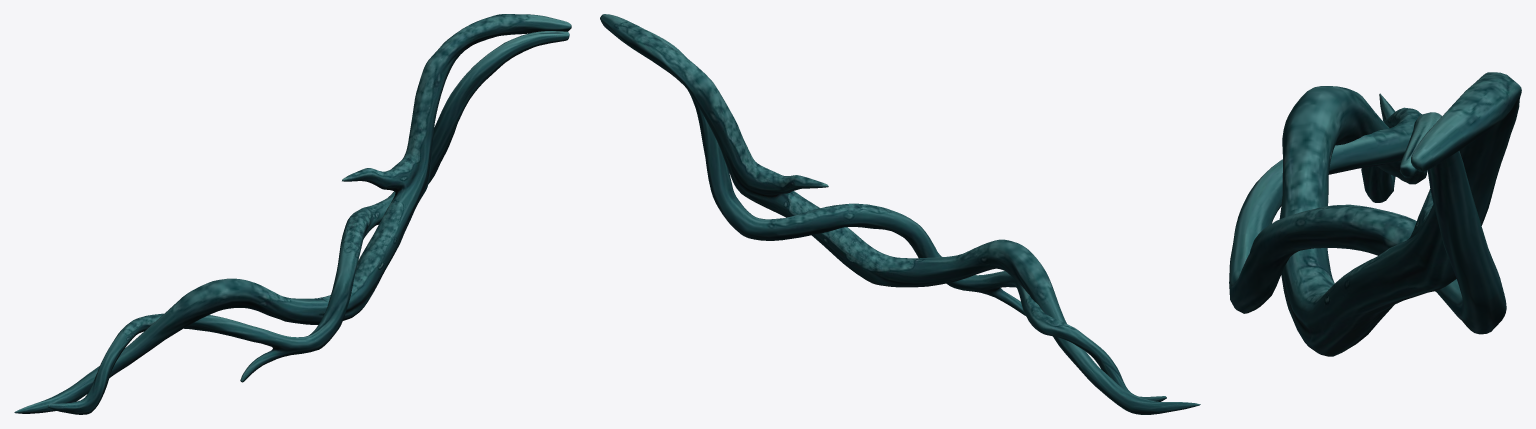
File: sky_root_02b_soma_v35.glb
3 views of the same model, side by side, from view 1: azimuth 30°, elevation 25°; view 2: azimuth 150°, elevation 25°; view 3: azimuth 270°, elevation 25° (orthographic). The views are drawn at different scales.
Parts seen in each view (by area): view 1: root_02b; view 2: root_02b; view 3: root_02b.
Part boxes in pixels (x1,y1,x2,y2): root_02b: (14,14,571,414); root_02b: (600,14,1200,414); root_02b: (1229,72,1521,356).
Size of the model in its own units: 18.56 by 8.49 by 4.15.
1 material, 1 textured.
